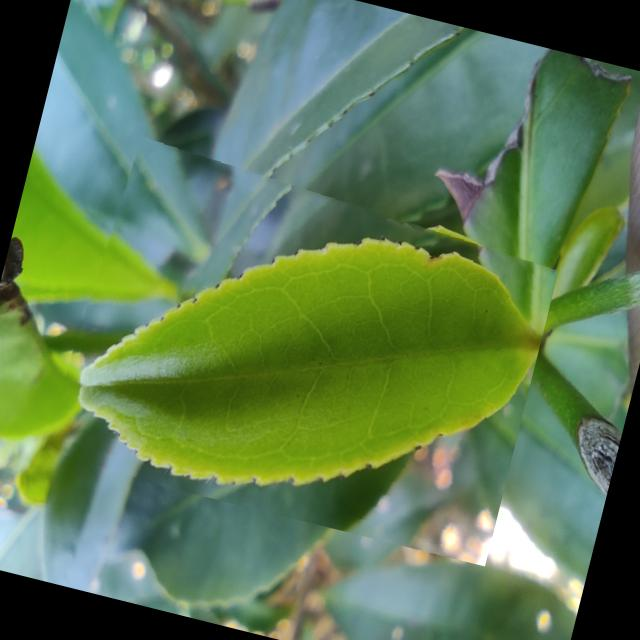Category C(4-7 days): (39, 130, 566, 564)
